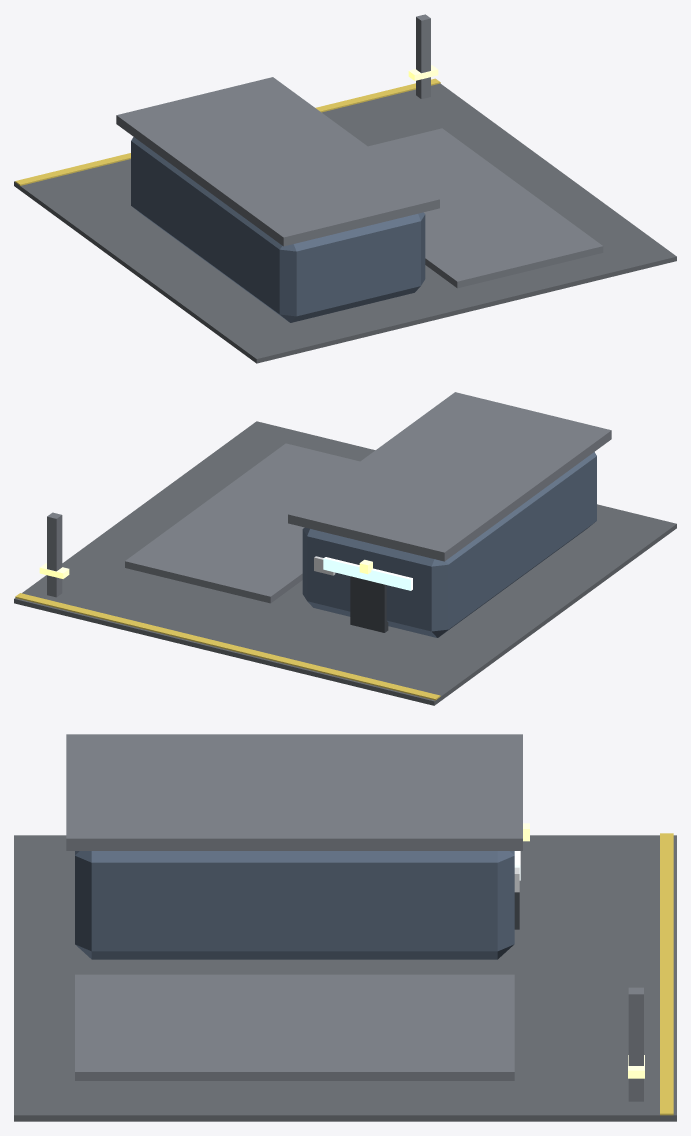
File: zone_low_1_t1.glb
The picture shows the model from 3 angles, top to bottom: view 1: azimuth 30°, elevation 25°; view 2: azimuth 150°, elevation 25°; view 3: azimuth 270°, elevation 25°; orthographic projection. The views are drawn at different scales.
Visible parts, largest first — view 1: zone_low_1_t1, detail; view 2: zone_low_1_t1, detail; view 3: zone_low_1_t1, detail.
Boxes of the visible parts, bbox=[...] form: zone_low_1_t1: bbox=[14, 77, 676, 363]; detail: bbox=[15, 14, 440, 185]; zone_low_1_t1: bbox=[14, 392, 676, 705]; detail: bbox=[15, 512, 440, 700]; zone_low_1_t1: bbox=[14, 734, 676, 1121]; detail: bbox=[514, 823, 673, 1115].
Size of the model in its own units: 19.6 by 4.49 by 19.6.
